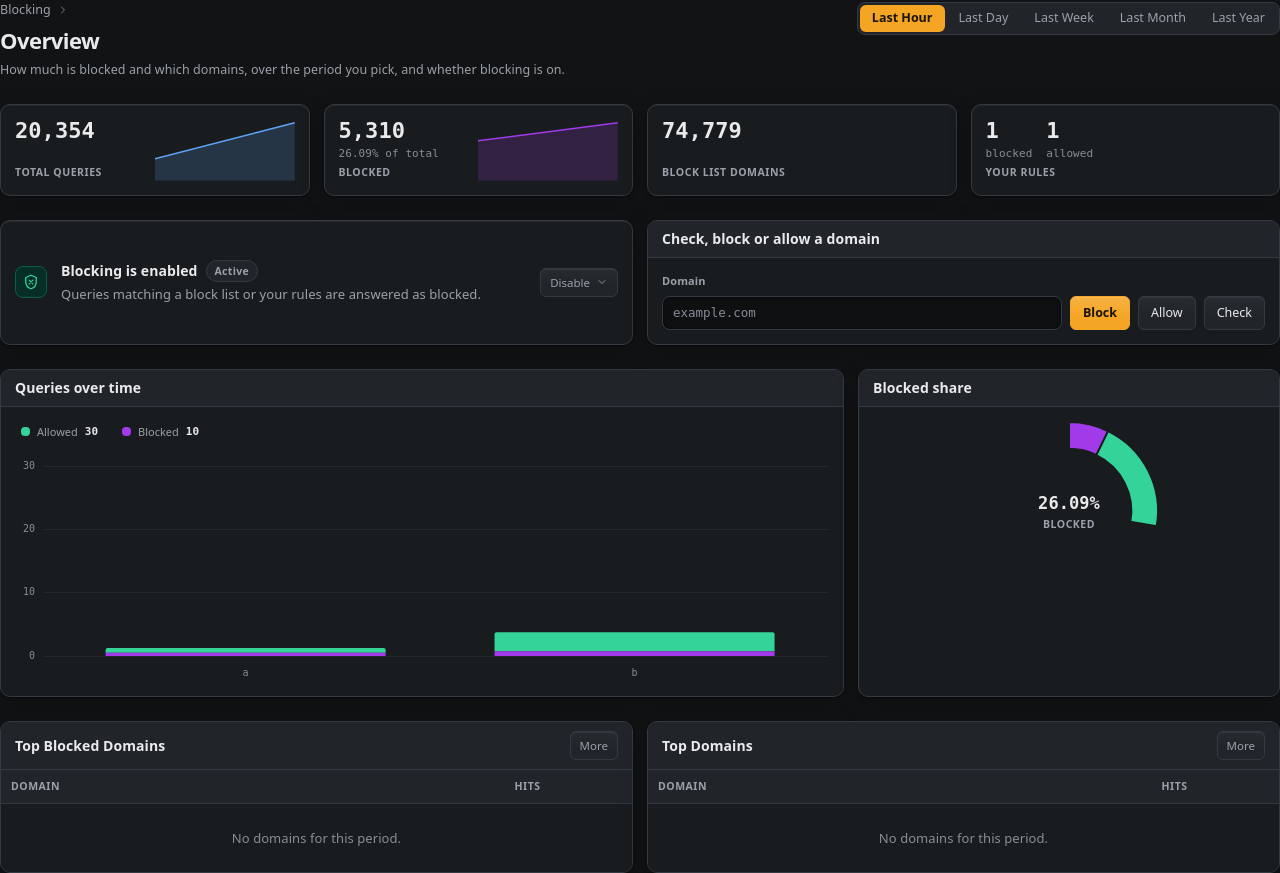
Test: Overview › a refresh that fails keeps the figures and says they are stale
Expected: the text "20,354" is shown, [15,119,102,143]
Type "ads.example.com" into the field labelled "Domain" at [862, 313], box [662,296,1062,330]
Then press Enter
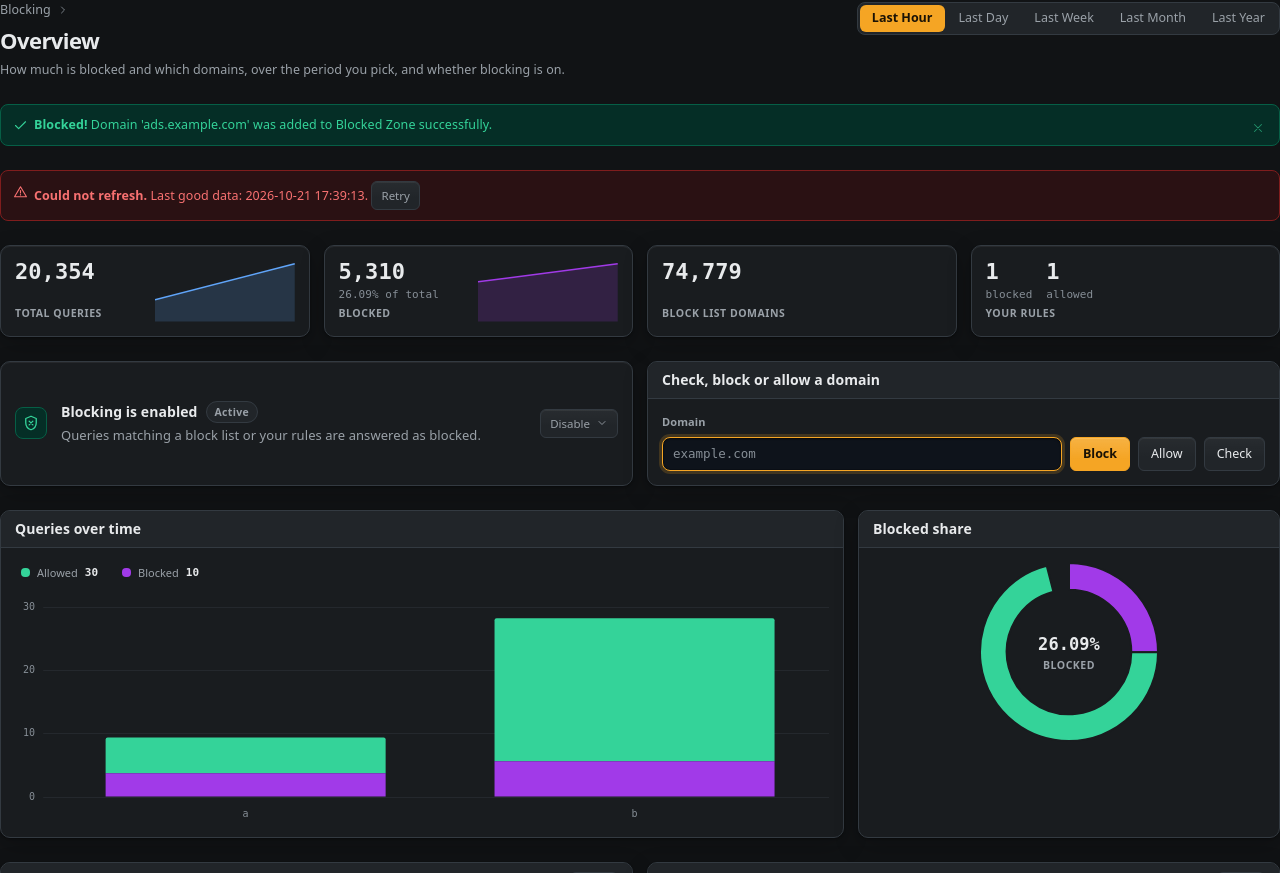
Expected: the text "20,354" is shown, [15,260,102,284]
Expected: the text "Could not refresh." is shown, [34,187,147,204]
Click the button "Retry" at [396, 196], box [372,181,420,210]
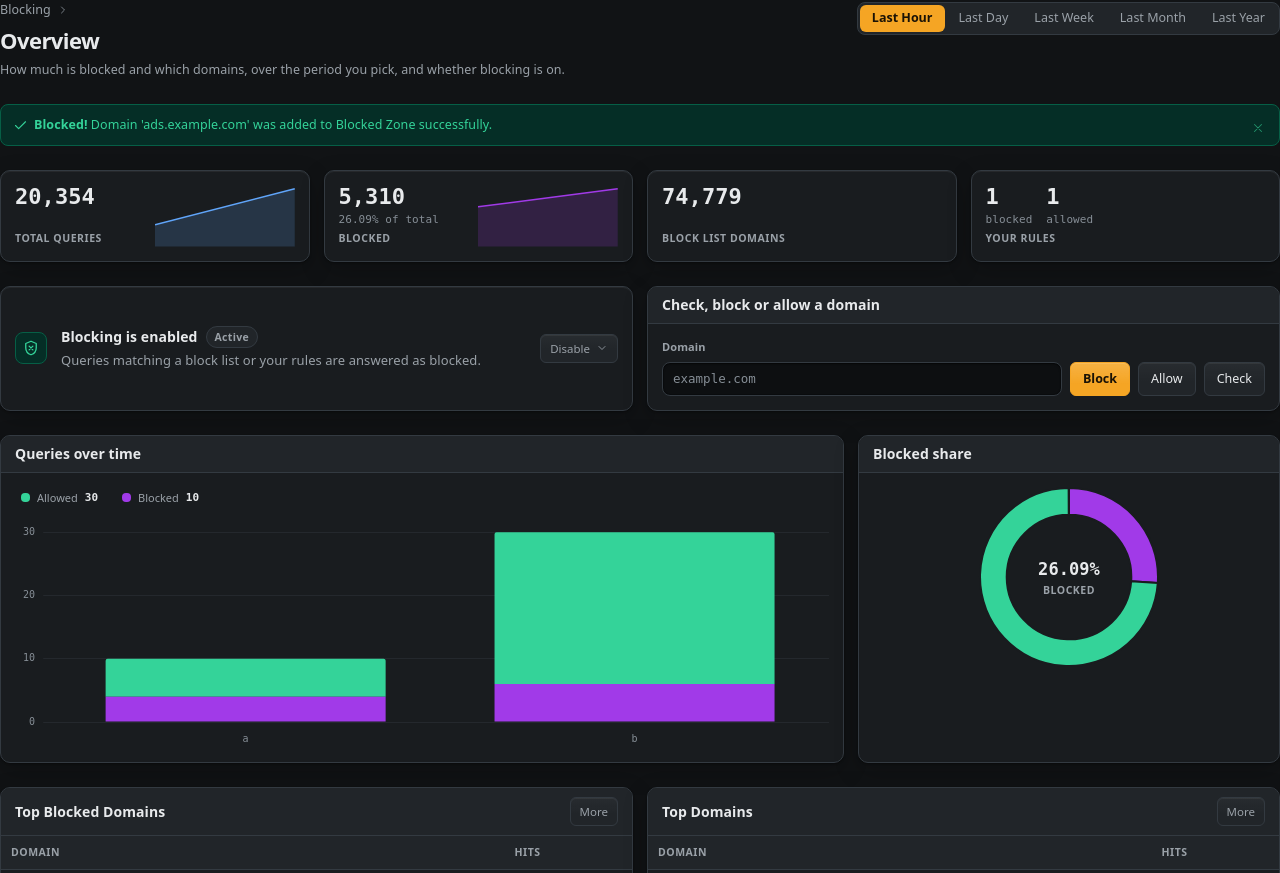
Expected: the text "20,354" is shown, [15,185,102,209]
Expected: the text "Could not refresh." is gone
